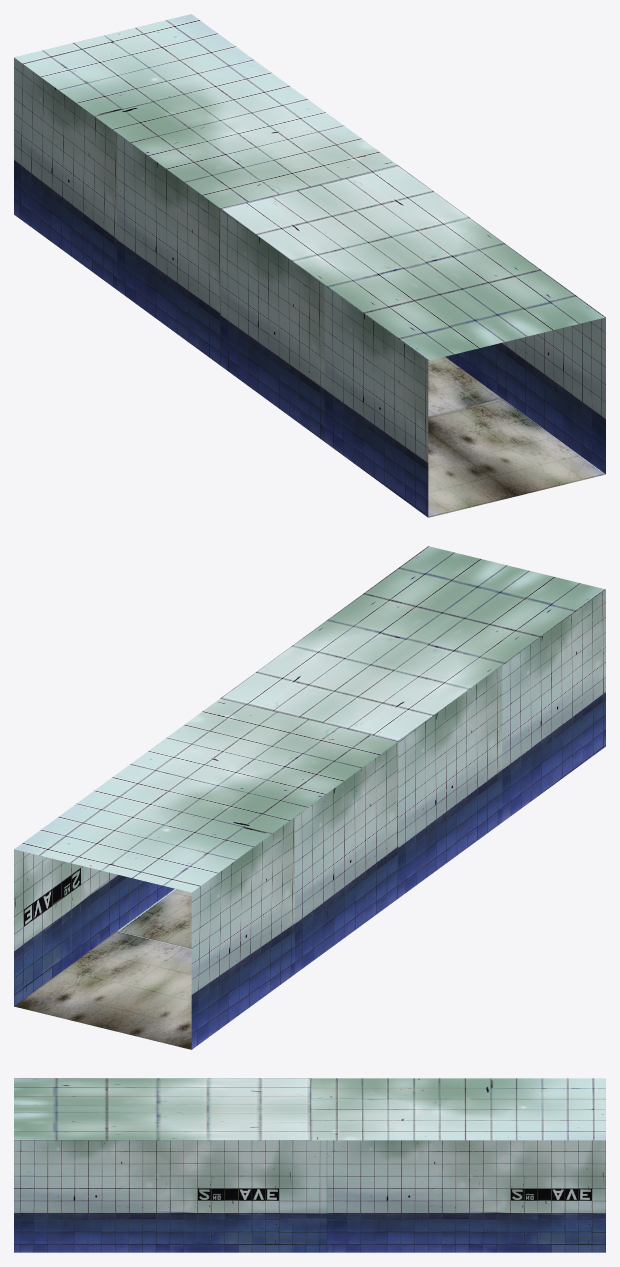
The model's file is metro right straight.fbx.
The picture shows the model from 3 angles, top to bottom: view 1: azimuth 30°, elevation 25°; view 2: azimuth 150°, elevation 25°; view 3: azimuth 270°, elevation 25°; orthographic projection. The views are drawn at different scales.
Parts seen in each view (by area): view 1: Hallway; view 2: Hallway; view 3: Hallway.
Part boxes in pixels (bbox=[...]): Hallway: bbox=[14, 14, 605, 517]; Hallway: bbox=[14, 546, 605, 1049]; Hallway: bbox=[14, 1078, 605, 1252].
Size of the model in its own units: 3871 by 810 by 958.
